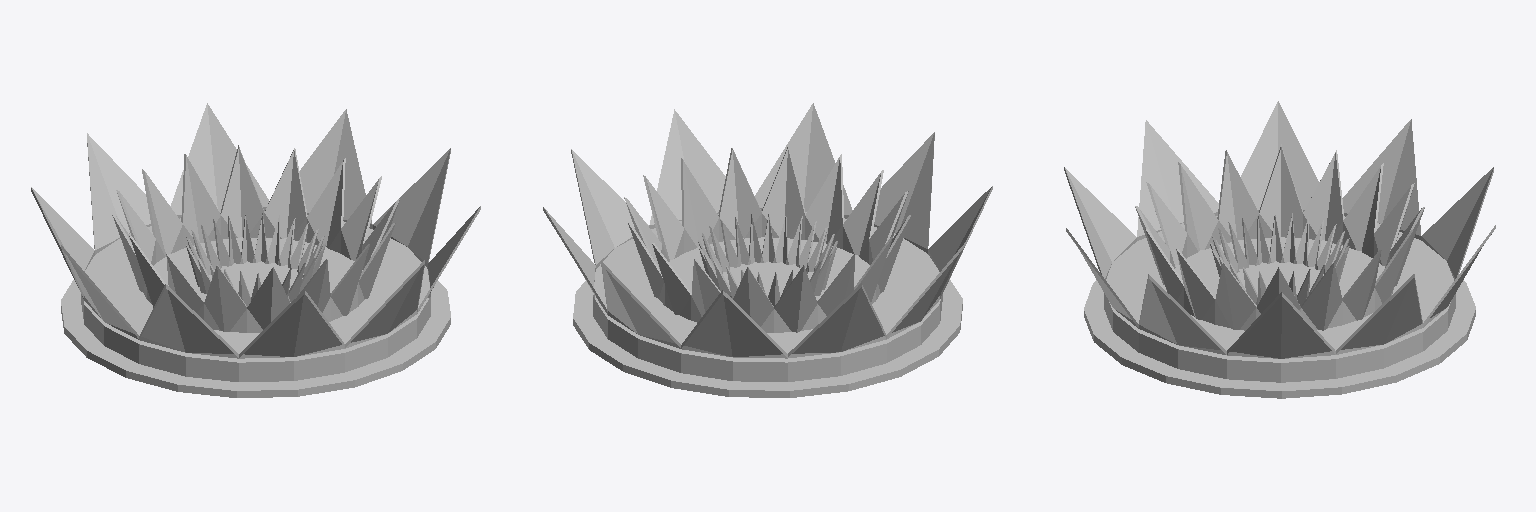
Rendered from portal_abrir_000004.obj.
3 renders of one model, left to right at view 1: azimuth 30°, elevation 25°; view 2: azimuth 150°, elevation 25°; view 3: azimuth 270°, elevation 25°, orthographic.
Parts seen in each view (by area): view 1: pCylinder1, Cylinder, Cylinder.001; view 2: pCylinder1, Cylinder, Cylinder.001; view 3: pCylinder1, Cylinder, Cylinder.001.
Part boxes in pixels (x1,y1,x2,y2): pCylinder1: (31, 103, 480, 397); Cylinder: (112, 145, 399, 332); Cylinder.001: (186, 213, 325, 306); pCylinder1: (543, 103, 992, 397); Cylinder: (624, 145, 911, 332); Cylinder.001: (698, 214, 837, 306); pCylinder1: (1064, 101, 1495, 398); Cylinder: (1135, 144, 1424, 330); Cylinder.001: (1210, 213, 1349, 305).
Size of the model in its own units: 2.02 by 0.591 by 1.93.